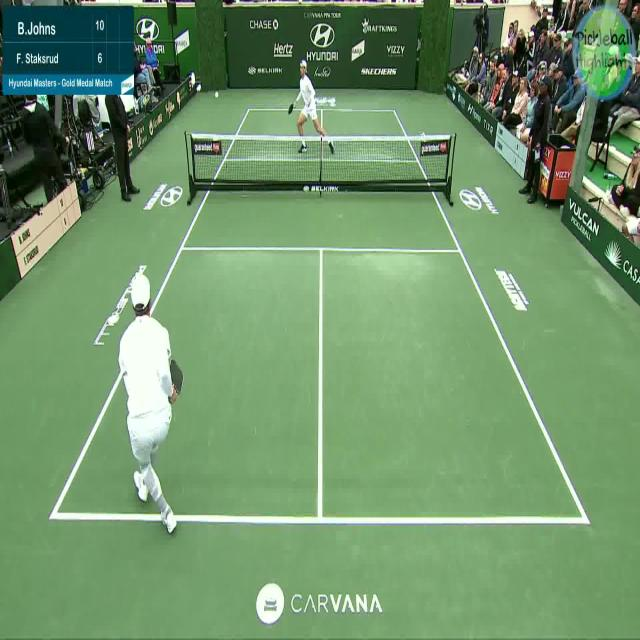ball: (214, 86, 219, 101)
